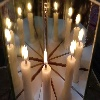fire: (44, 48, 49, 66)
